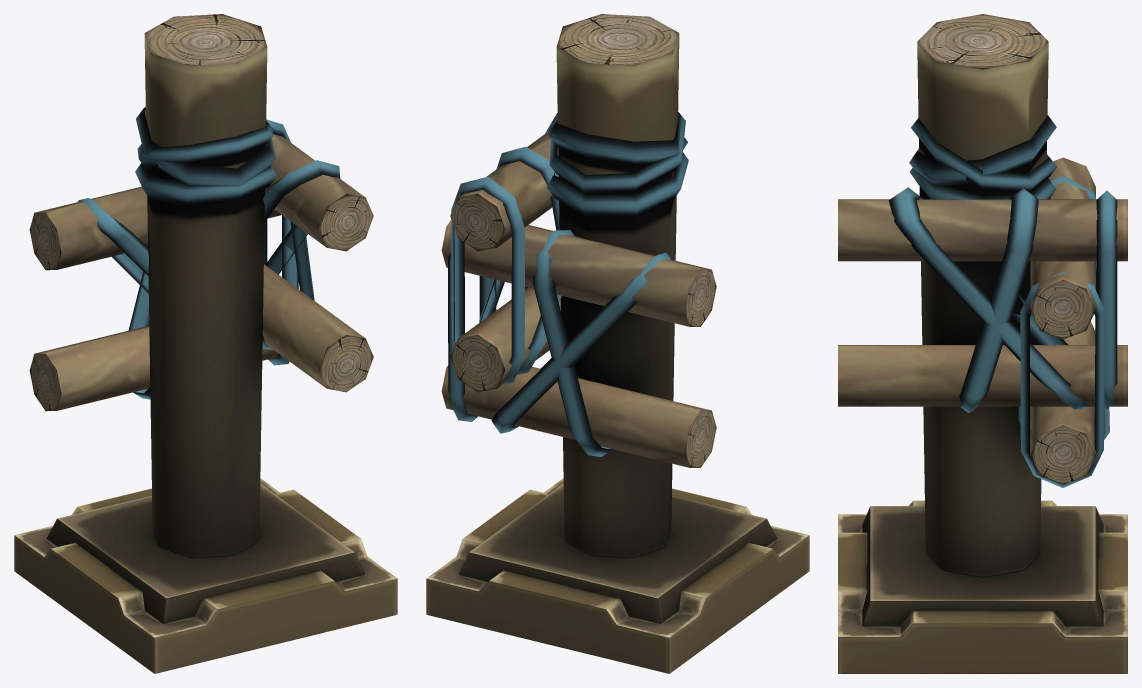
File: trap_445_xbfence_01.fbx
3 views of the same model, side by side, from view 1: azimuth 30°, elevation 25°; view 2: azimuth 150°, elevation 25°; view 3: azimuth 270°, elevation 25° (orthographic). The views are drawn at different scales.
Parts seen in each view (by area): view 1: trap_445_xbfence_01; view 2: trap_445_xbfence_01; view 3: trap_445_xbfence_01.
Boxes of the visible parts, x1=… form: trap_445_xbfence_01: x1=14, y1=14, x2=397, y2=673; trap_445_xbfence_01: x1=426, y1=14, x2=809, y2=673; trap_445_xbfence_01: x1=838, y1=14, x2=1127, y2=673.
Bounding box in the file's own units: 0.2618 × 0.569 × 0.2618.
Materials: 1 (1 with a texture image).
